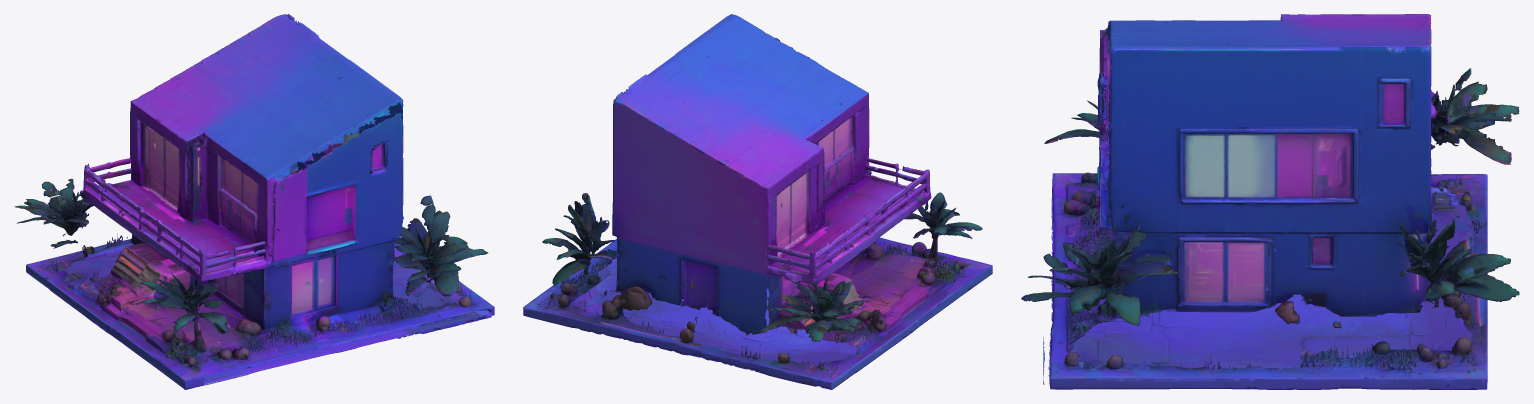
Rendered from house_2.glb.
3 views of the same model, side by side, from view 1: azimuth 30°, elevation 25°; view 2: azimuth 150°, elevation 25°; view 3: azimuth 270°, elevation 25° (orthographic). The views are drawn at different scales.
Bounding box in the file's own units: 1.98 × 1.27 × 1.93.
Materials: 1 (1 with a texture image).
